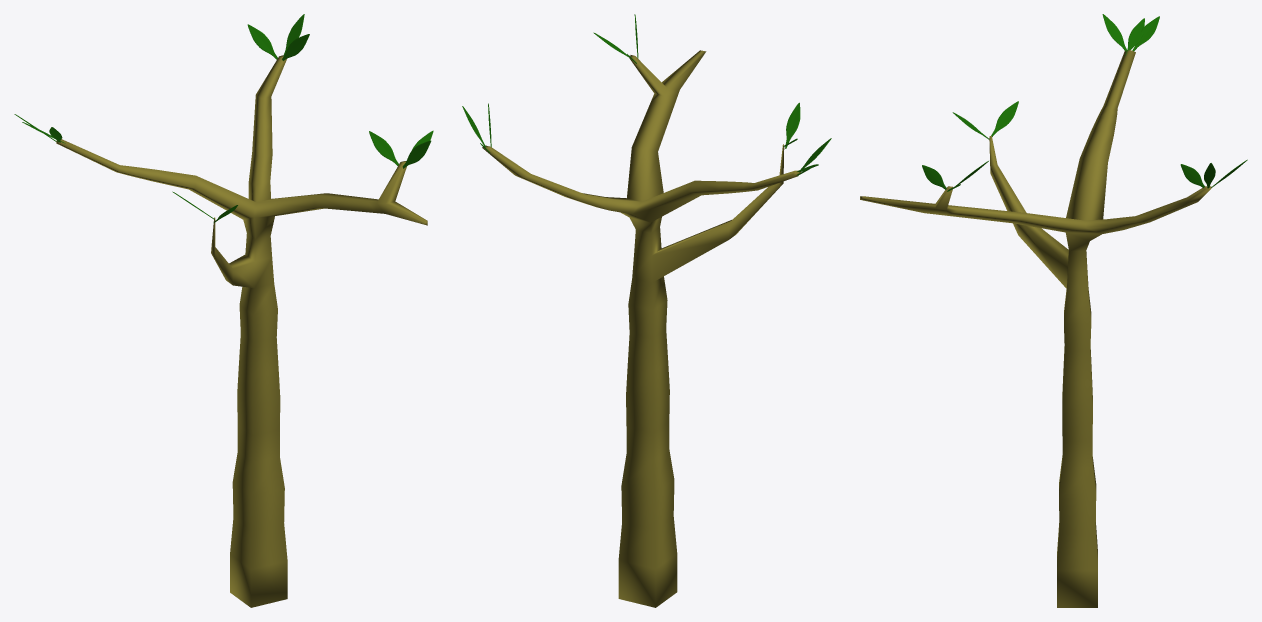
File: middletree.fbx
3 renders of one model, left to right at view 1: azimuth 30°, elevation 25°; view 2: azimuth 150°, elevation 25°; view 3: azimuth 270°, elevation 25°, orthographic. The views are drawn at different scales.
Parts seen in each view (by area): view 1: Cube; view 2: Cube; view 3: Cube.
Boxes of the visible parts, x1,y1,x2,y2 form: Cube: (56,55,427,607); Cube: (482,50,800,607); Cube: (860,50,1211,607).
Bounding box in the file's own units: 839 × 1283 × 914.
